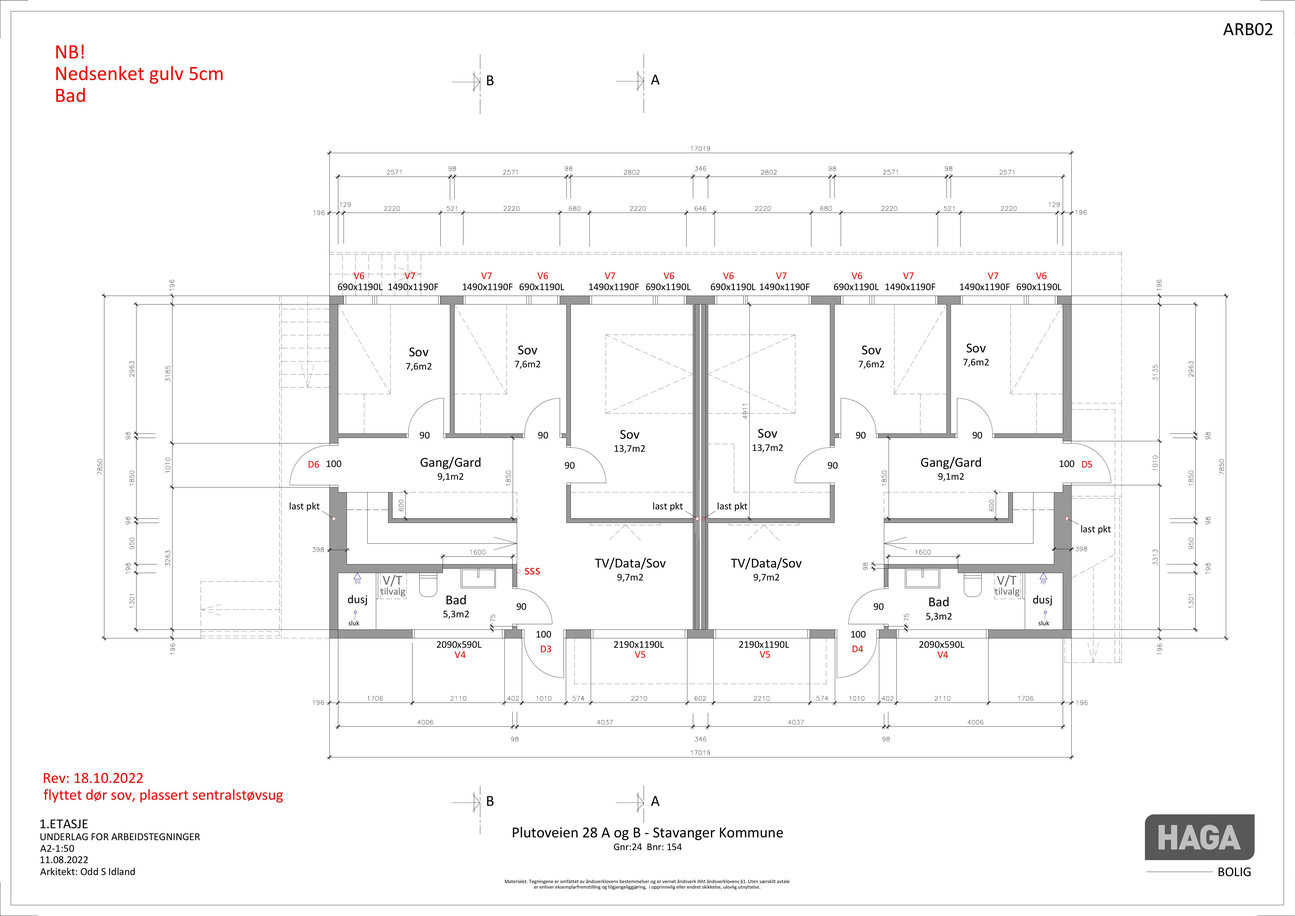plantegning: (287, 295, 1117, 639)
